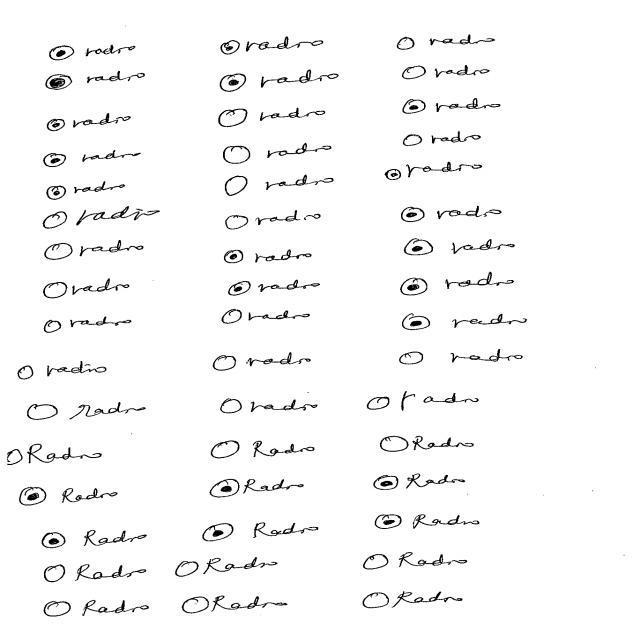radio: (362, 549, 393, 574), (202, 522, 237, 544), (216, 71, 249, 93), (206, 480, 243, 499), (401, 239, 437, 258), (210, 442, 246, 461), (217, 108, 251, 128), (213, 354, 242, 377), (26, 405, 61, 424), (42, 600, 75, 620), (401, 348, 426, 374), (223, 174, 250, 198), (173, 558, 201, 581), (19, 488, 50, 508), (399, 278, 433, 296), (401, 316, 437, 333), (43, 243, 75, 262), (43, 211, 73, 231), (182, 596, 212, 616), (44, 73, 76, 91), (224, 146, 254, 165), (364, 394, 394, 413), (379, 436, 411, 453), (43, 281, 69, 301), (218, 306, 244, 326), (43, 565, 70, 584), (401, 64, 428, 83), (373, 515, 405, 531), (44, 186, 74, 203), (48, 46, 79, 62), (363, 593, 392, 610), (41, 316, 63, 338), (399, 207, 429, 223), (42, 153, 70, 170), (372, 477, 402, 492), (224, 216, 252, 232), (41, 534, 70, 549), (402, 100, 430, 115), (217, 400, 247, 414), (219, 40, 244, 56), (8, 447, 24, 472), (396, 37, 418, 55), (403, 134, 426, 151), (19, 362, 35, 386), (45, 117, 68, 133), (228, 282, 252, 297), (224, 250, 248, 265), (384, 167, 404, 182)
